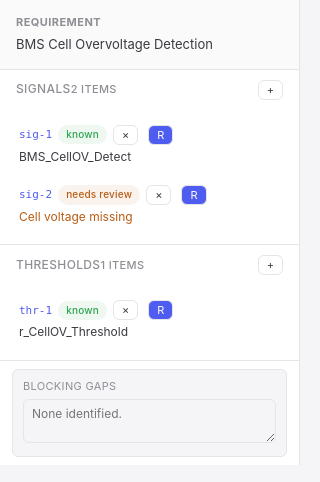
Test case: Sidebar › collapses and expands sections
The width and height of the screenshot is (320, 482).
Check: the text "sig-1" is shown, box [19,126,52,143]
Click the text "signals" at {"x": 43, "y": 90}, box [16,80,71,99]
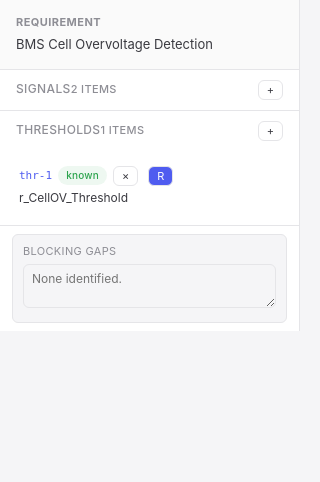
Check: the text "sig-1" is gone
Click the text "signals" at {"x": 43, "y": 90}, box [16,80,71,99]
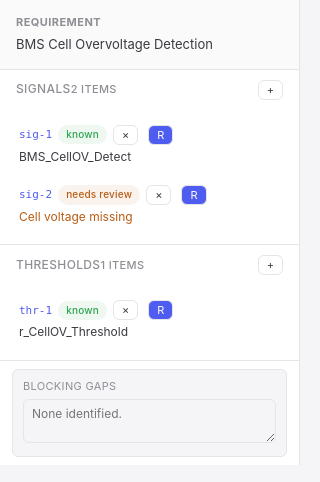
Check: the text "sig-1" is shown, box [19,126,52,143]
